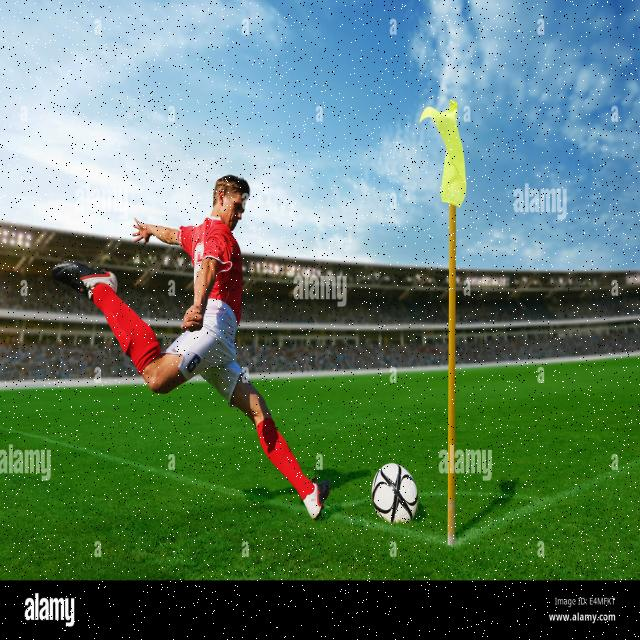corner-kick: (327, 94, 558, 560)
